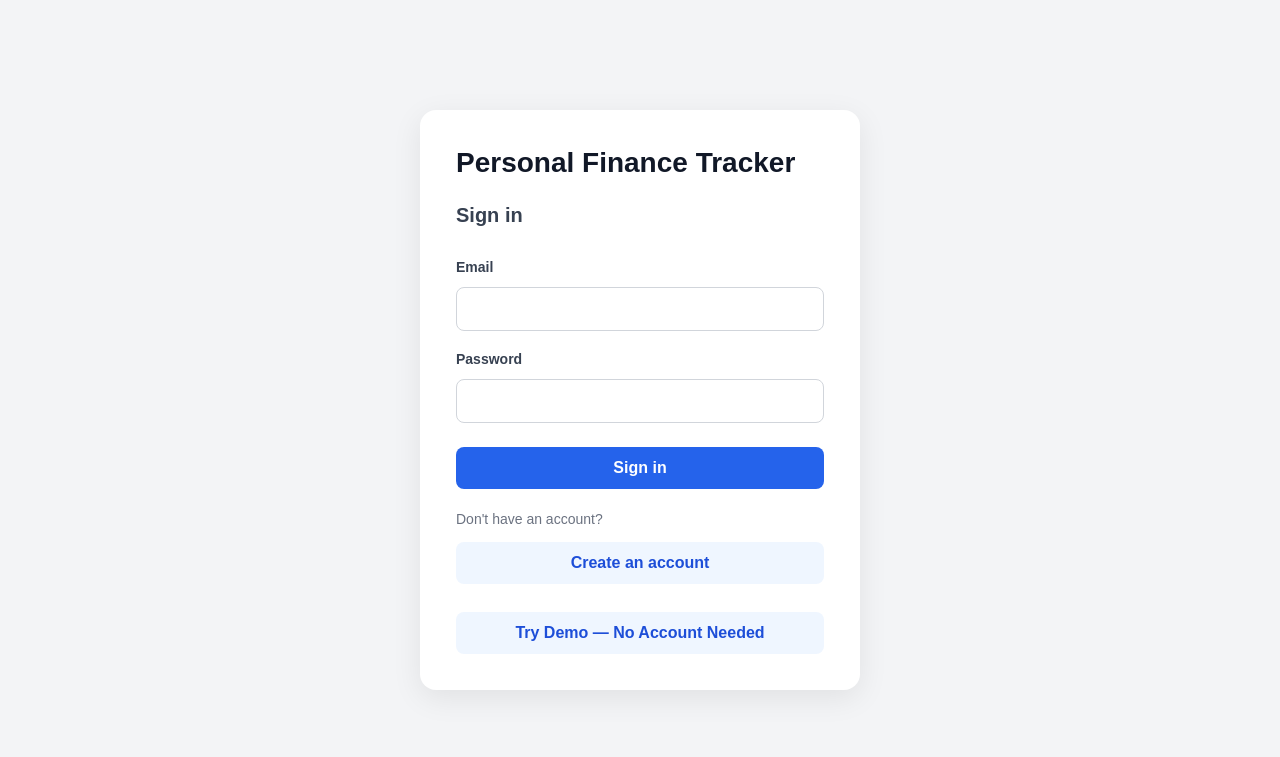
logging out returns the user to the sign-in screen
Type "test@example.com" into the field labelled "Email" at (640, 309), box [456, 287, 824, 331]
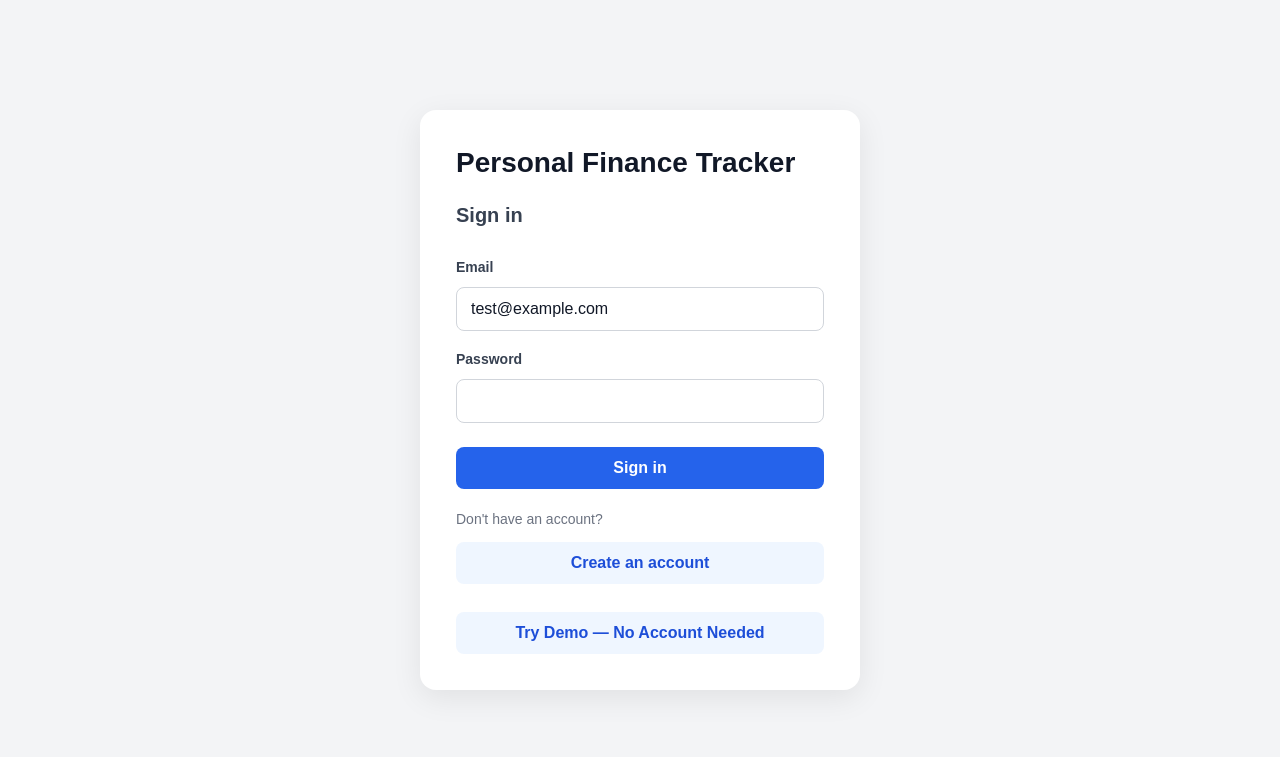
Type "test-password" into the password field labelled "Password" at (640, 401), box [456, 379, 824, 423]
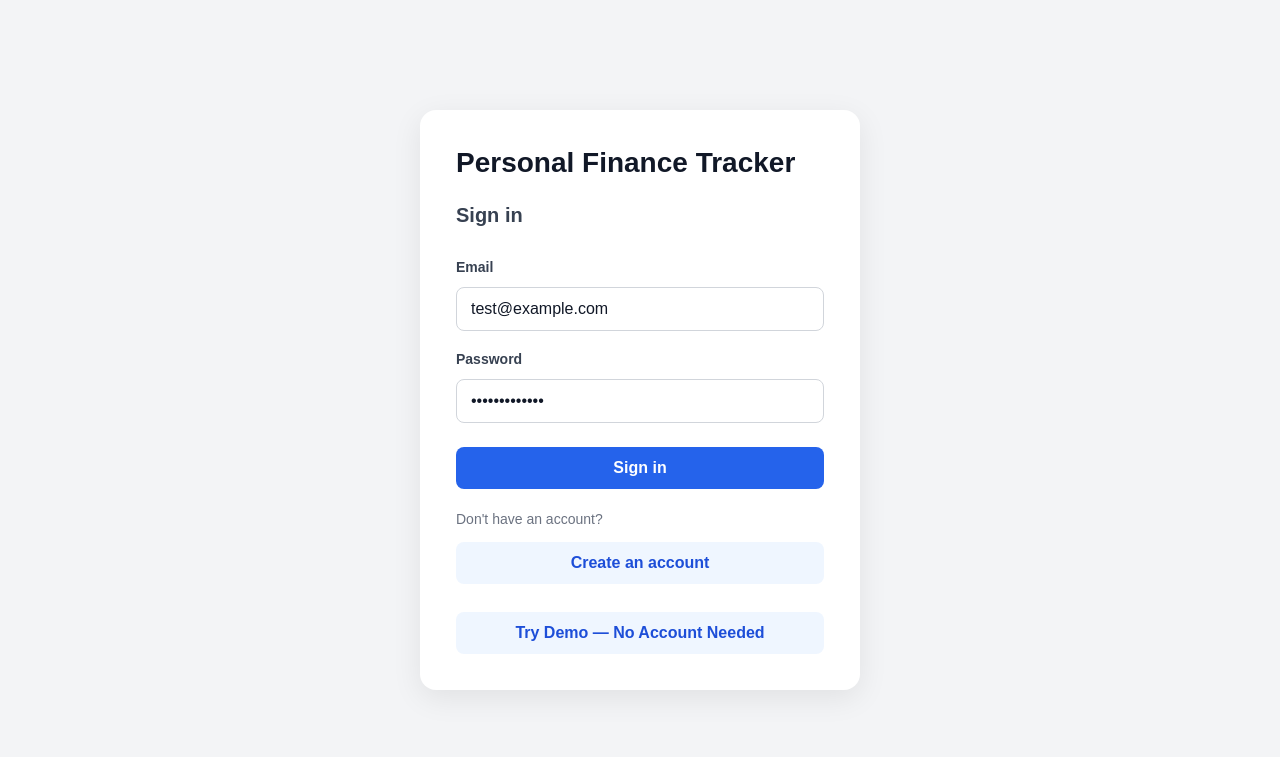
Click the button "Sign in" at (640, 468), box [456, 447, 824, 489]
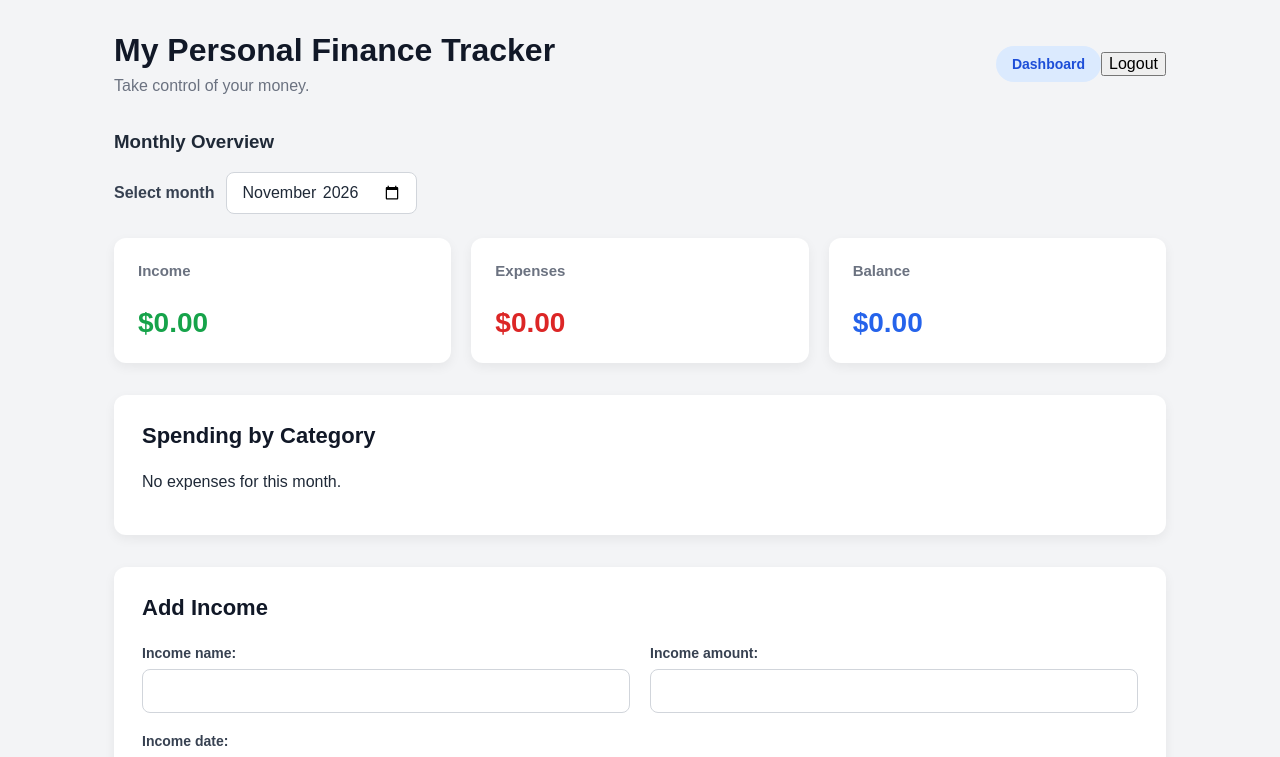
Check: the heading "My Personal Finance Tracker" is shown, box [114, 32, 555, 69]
Click the button "Logout" at (1134, 64), box [1101, 52, 1166, 76]
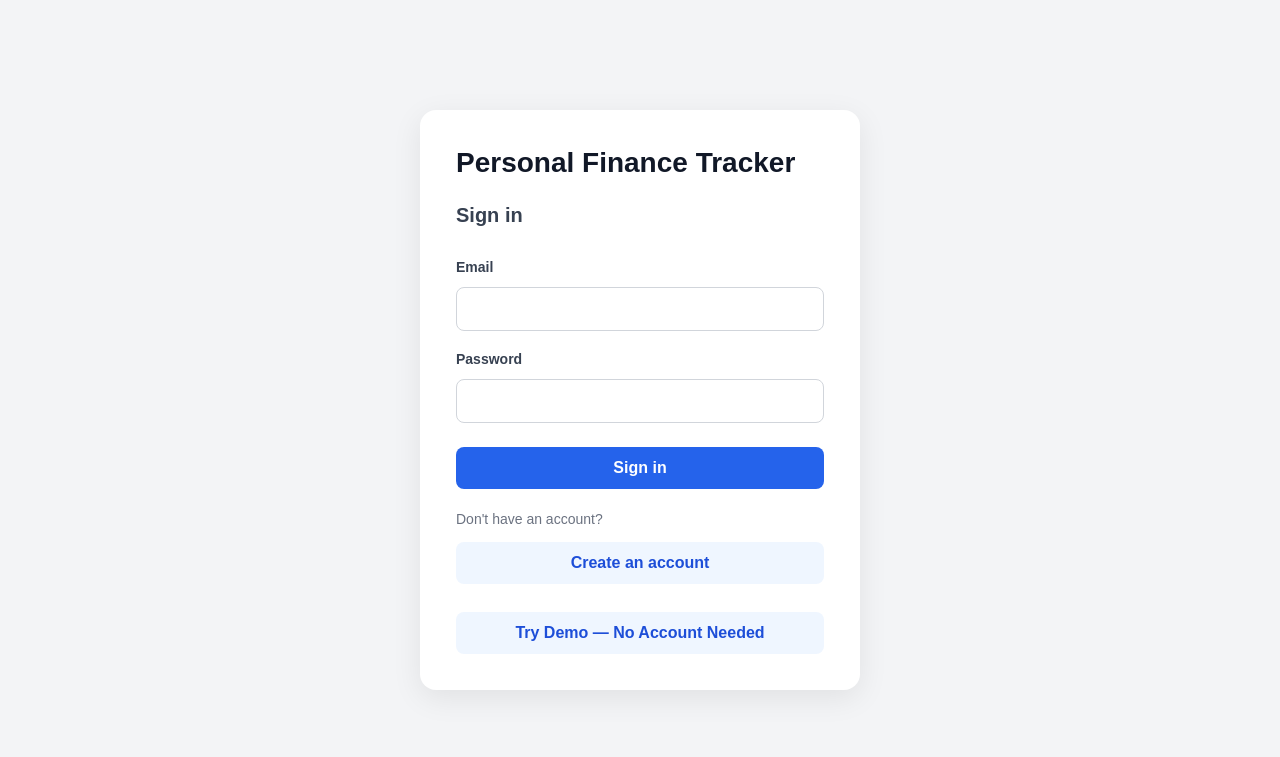
Check: the heading "Sign in" is shown, box [456, 204, 523, 226]
Check: the heading "My Personal Finance Tracker" is gone
